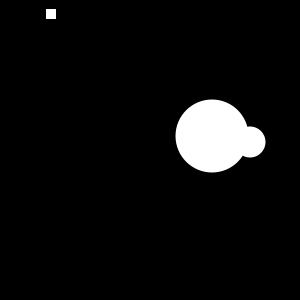circle: (46, 9, 56, 19)
rectangle: (176, 100, 248, 172), (235, 126, 266, 158)
